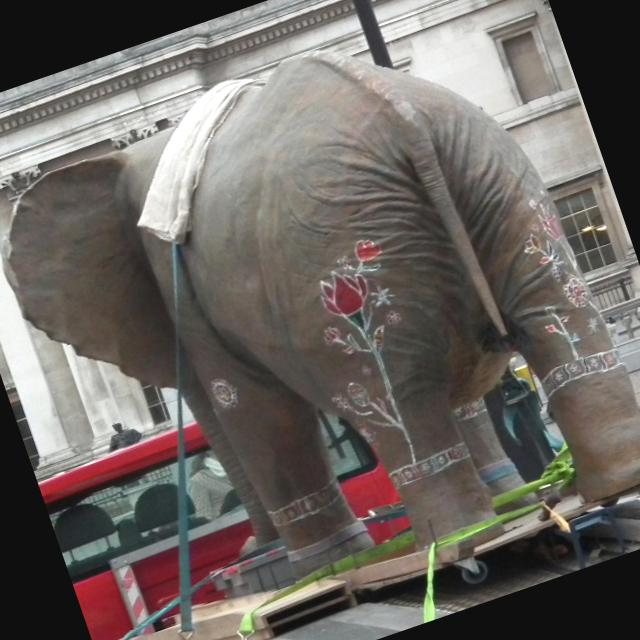Vehicle: (32, 258, 640, 640)
